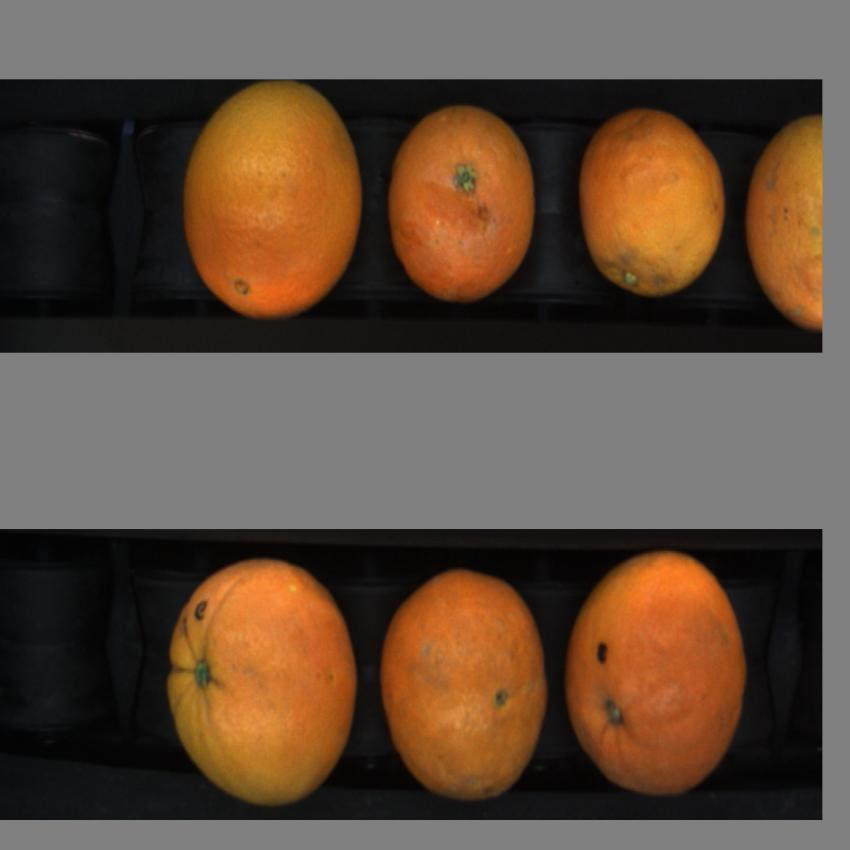Buen estado: (161, 552, 363, 815), (564, 548, 756, 799), (179, 79, 374, 325), (376, 552, 553, 808), (380, 101, 549, 316), (572, 107, 728, 305), (740, 103, 822, 343)
